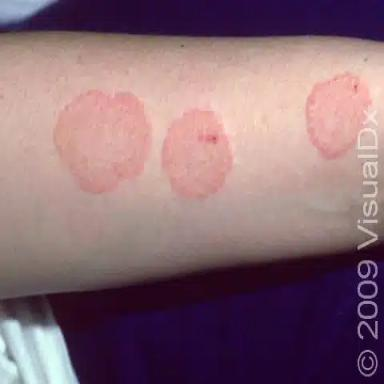Tinea-Corporis: (55, 90, 151, 192), (162, 109, 233, 198), (306, 73, 371, 158)
